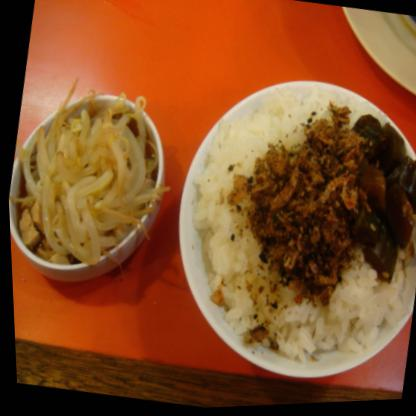mixed rice: (164, 56, 415, 376)
